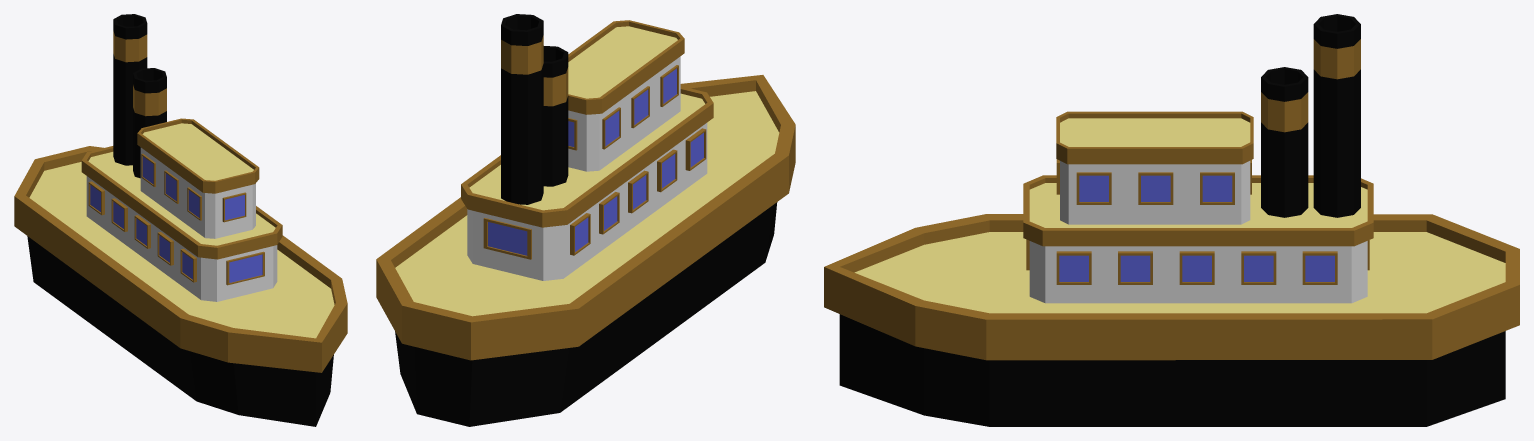
Rendered from Boat_Model.fbx.
3 renders of one model, left to right at view 1: azimuth 30°, elevation 25°; view 2: azimuth 150°, elevation 25°; view 3: azimuth 270°, elevation 25°, orthographic. The views are drawn at different scales.
Visible parts, largest first — view 1: Boat_Full_Model; view 2: Boat_Full_Model; view 3: Boat_Full_Model.
Part boxes in pixels (left/top/right/bottom): Boat_Full_Model: left=14, top=14, right=347, bottom=426; Boat_Full_Model: left=376, top=14, right=795, bottom=426; Boat_Full_Model: left=824, top=14, right=1519, bottom=426.
Size of the model in its own units: 424 by 675 by 1178.
